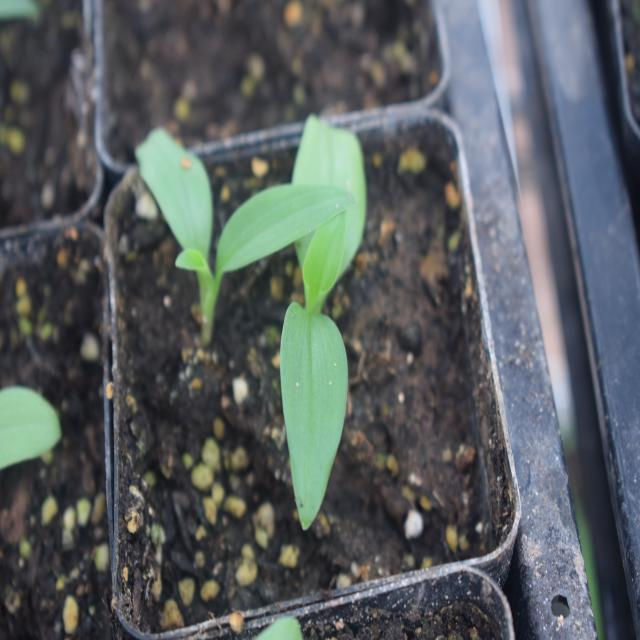Common Dayflower: (256, 96, 387, 544), (142, 129, 257, 336)
